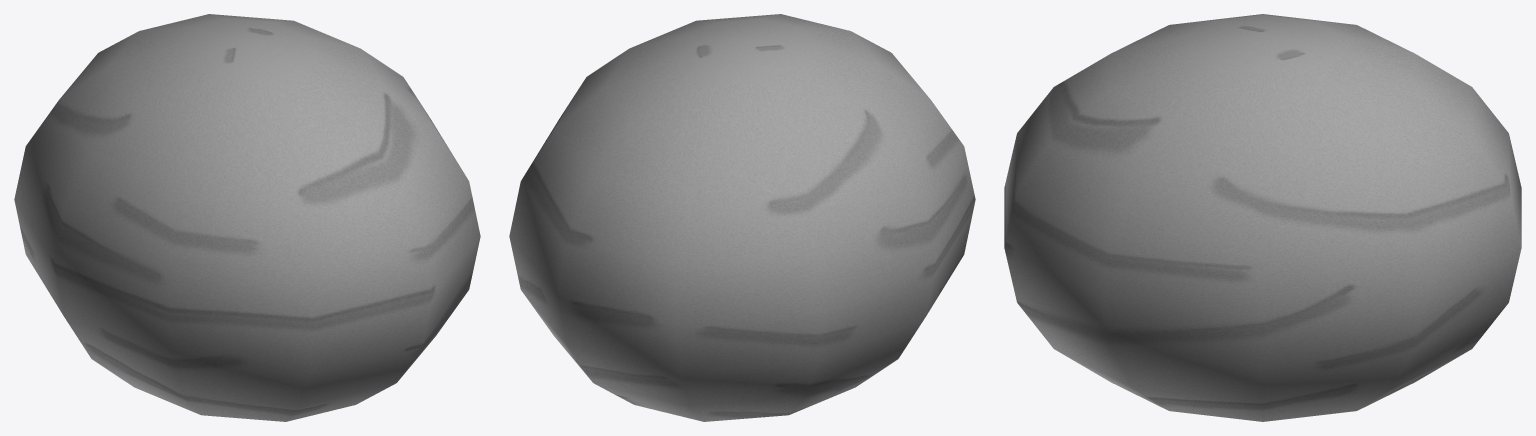
File: roca_fbx.fbx
The picture shows the model from 3 angles, left to right: view 1: azimuth 30°, elevation 25°; view 2: azimuth 150°, elevation 25°; view 3: azimuth 270°, elevation 25°; orthographic projection. The views are drawn at different scales.
Parts seen in each view (by area): view 1: roca; view 2: roca; view 3: roca.
Part boxes in pixels (x1,y1,x2,y2): roca: (14,14,480,421); roca: (509,14,975,421); roca: (1004,14,1521,421).
Size of the model in its own units: 1.7 by 1.47 by 1.9.
1 material, 1 textured.
